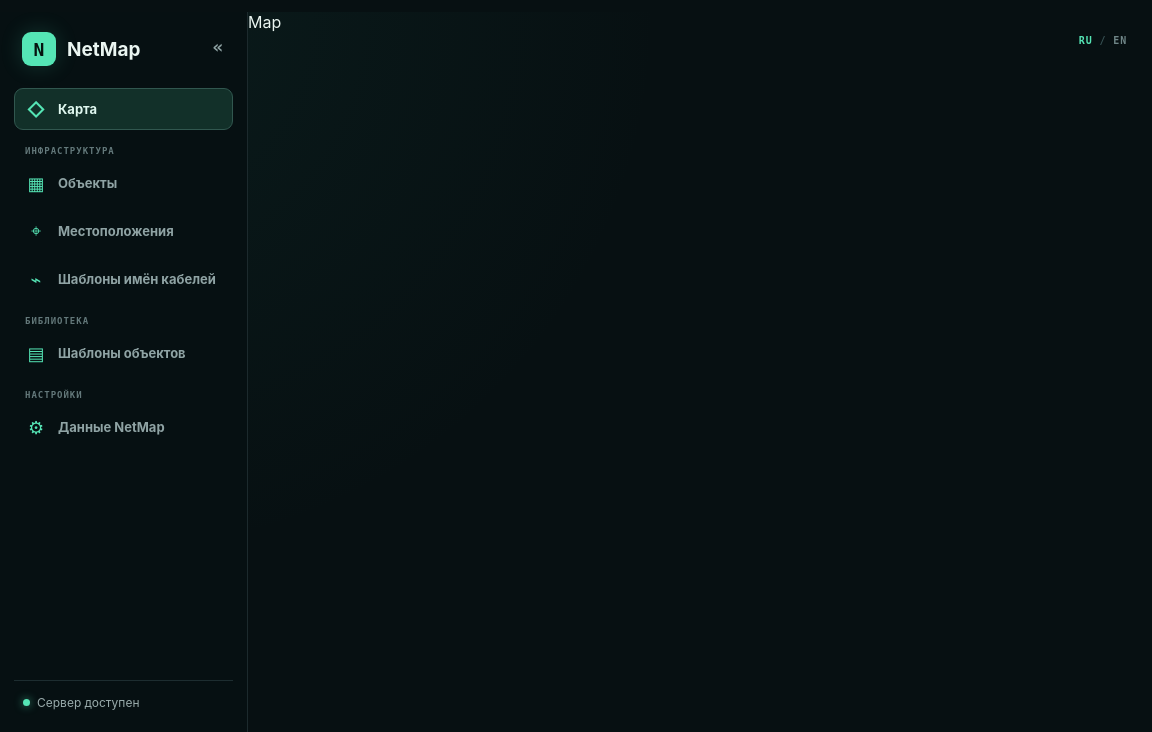
Test case: AppShell sidebar collapse preference › does not change the sidebar preference when the route changes
Click the button named "Свернуть боковую панель".
click(218, 47)  # box top-left (203, 32), bottom-right (233, 62)
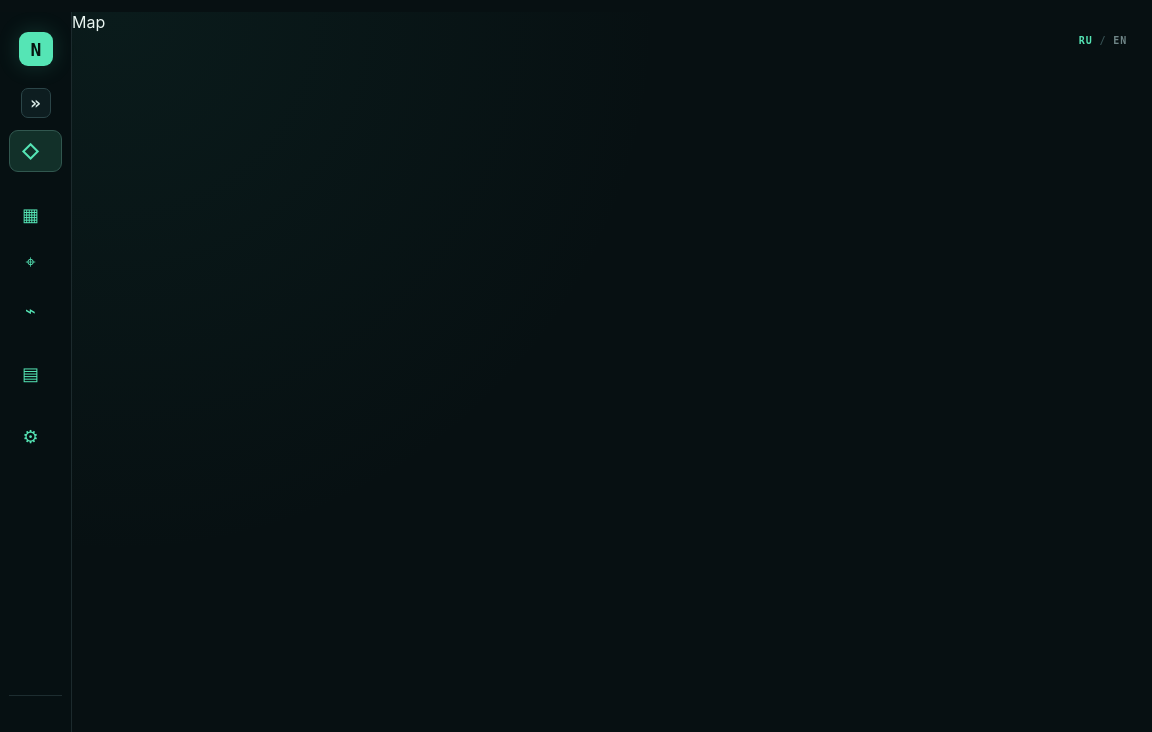
Click the link named "Объекты".
click(36, 214)  # box top-left (9, 193), bottom-right (62, 235)
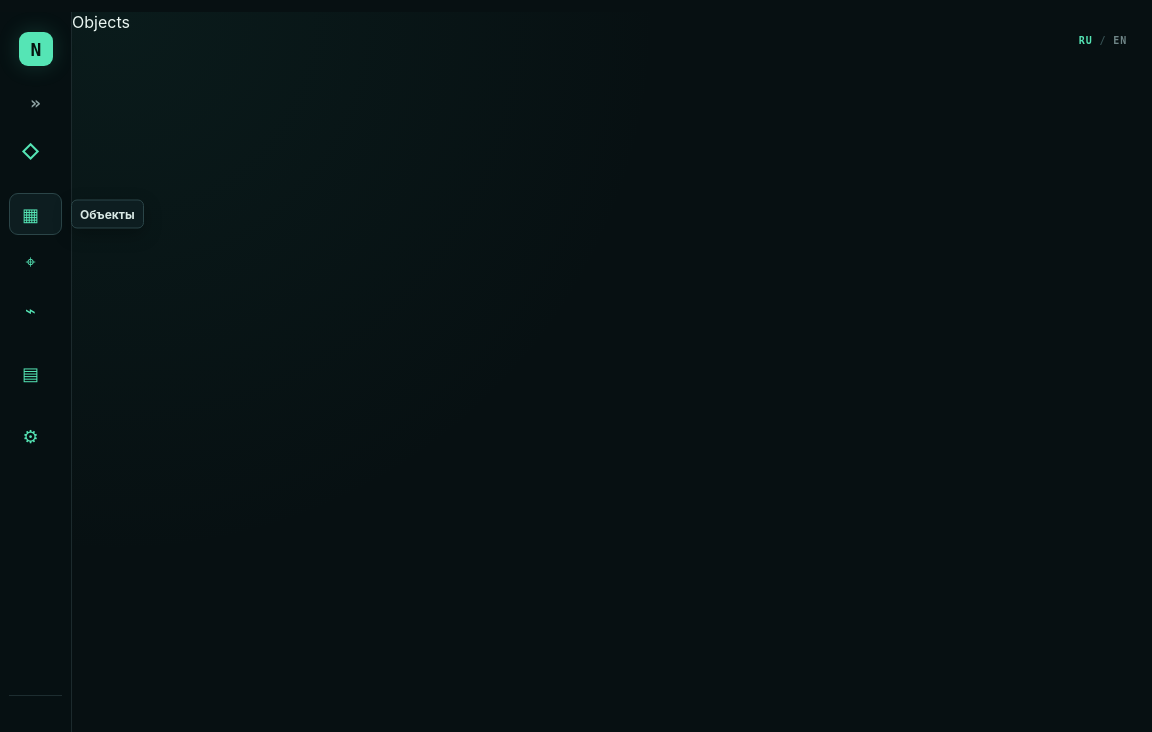
Expected: the text "Objects" is shown, top-left (72, 12), bottom-right (130, 32)
